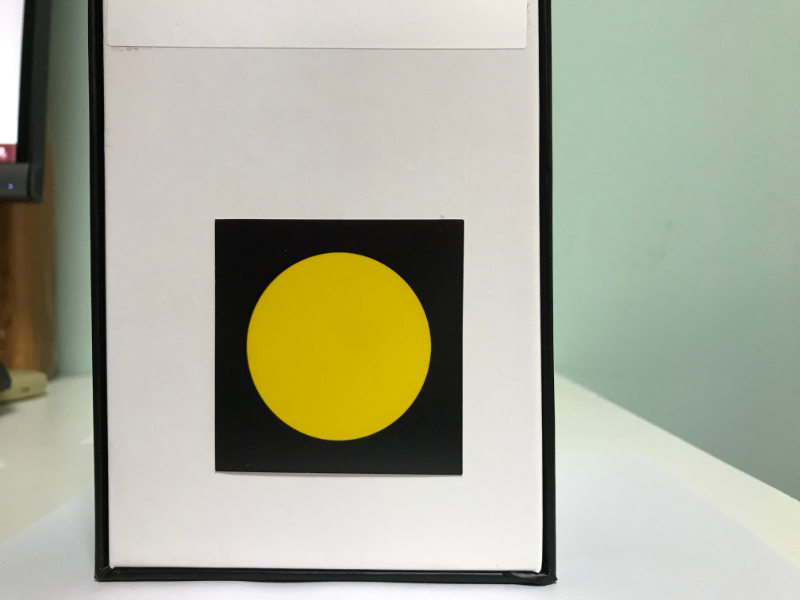Stop-5: (219, 222, 461, 473)
